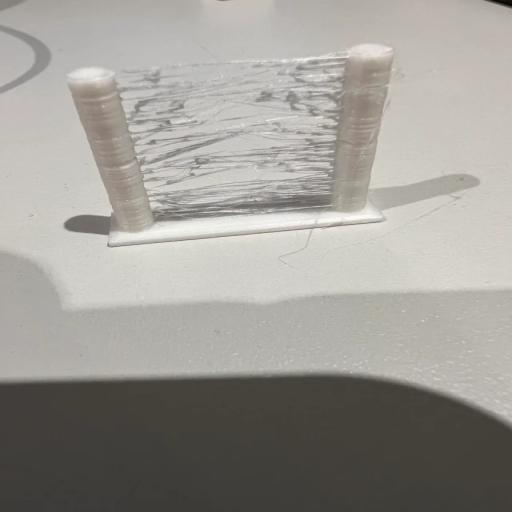stringing: (120, 53, 343, 218)
